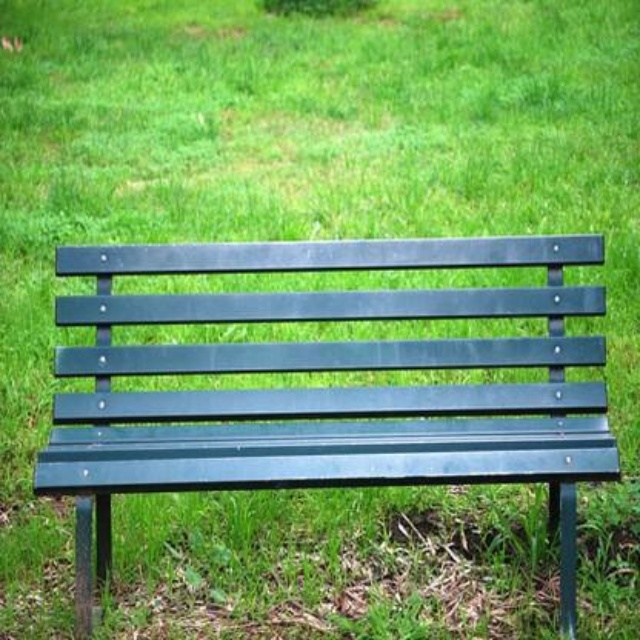obstacle: (26, 212, 623, 605)
